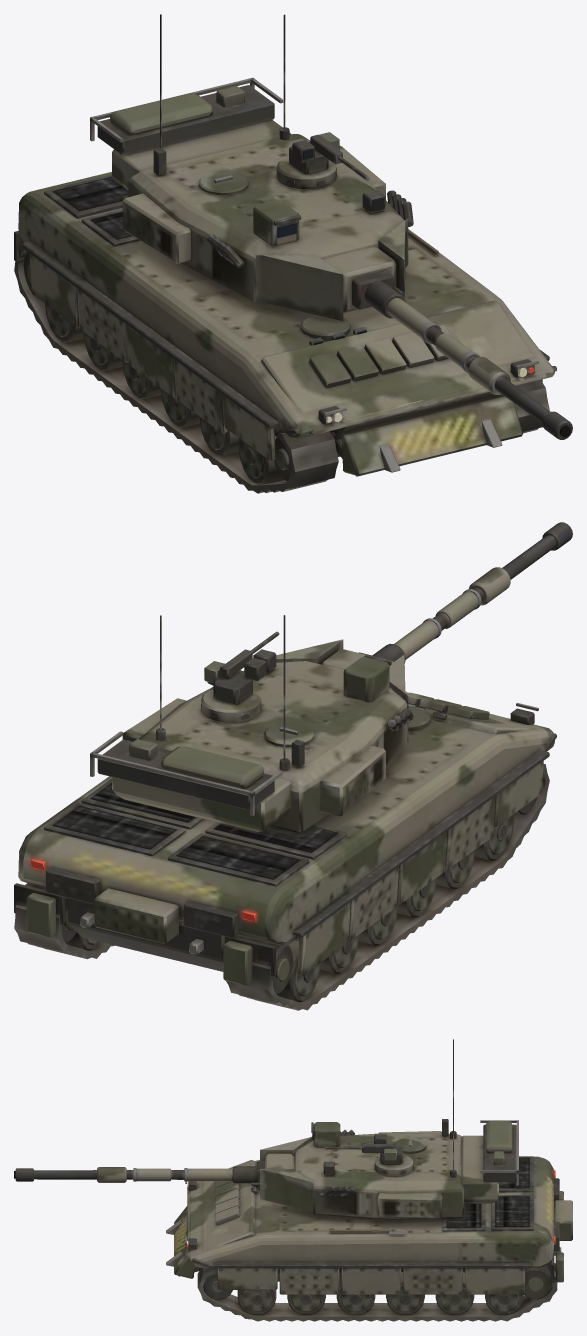
Rendered from hs_tank_nosorog_lod0m.glb.
3 views of the same model, one above another, from view 1: azimuth 30°, elevation 25°; view 2: azimuth 150°, elevation 25°; view 3: azimuth 270°, elevation 25° (orthographic). The views are drawn at different scales.
Size of the model in its own units: 3.86 by 4.57 by 10.4.
1 material, 1 textured.
